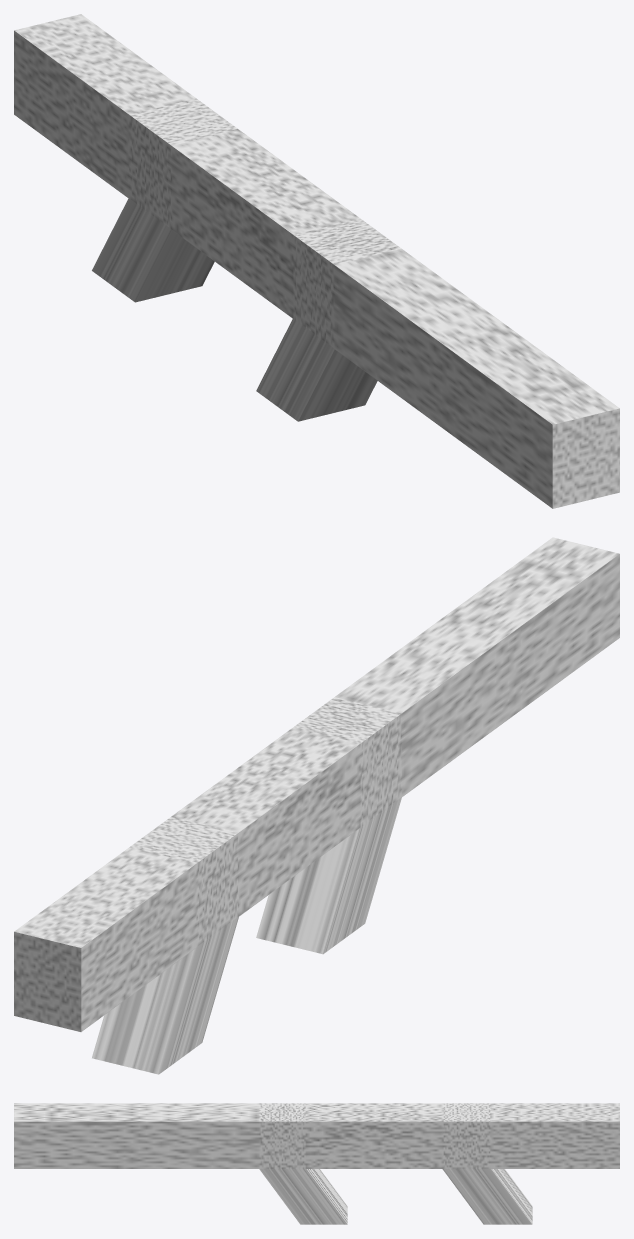
The model's file is Weapon3.fbx.
3 renders of one model, top to bottom at view 1: azimuth 30°, elevation 25°; view 2: azimuth 150°, elevation 25°; view 3: azimuth 270°, elevation 25°, orthographic. The views are drawn at different scales.
Visible parts, largest first — view 1: Weapon Machinegun; view 2: Weapon Machinegun; view 3: Weapon Machinegun.
Part boxes in pixels (x1,y1,x2,y2): Weapon Machinegun: [14, 14, 619, 508]; Weapon Machinegun: [14, 537, 619, 1074]; Weapon Machinegun: [14, 1103, 619, 1224].
Bounding box in the file's own units: 4.06 × 10.59 × 56.37.
Materials: 1 (1 with a texture image).
